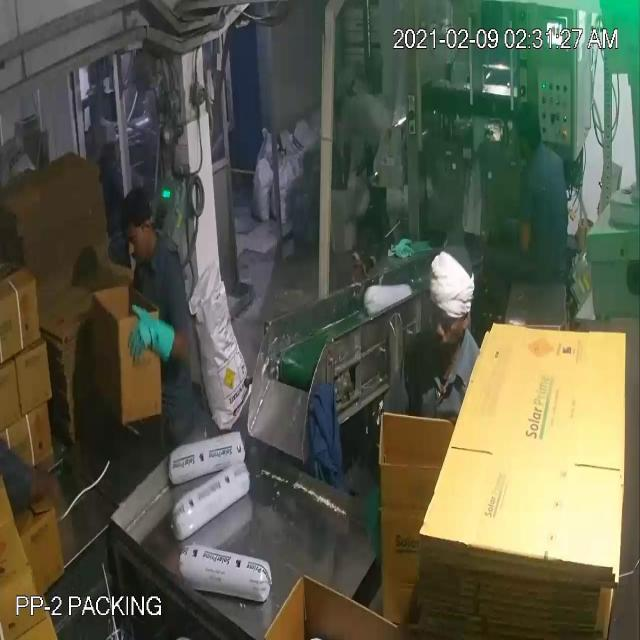Gloves: (45, 89, 150, 486)
